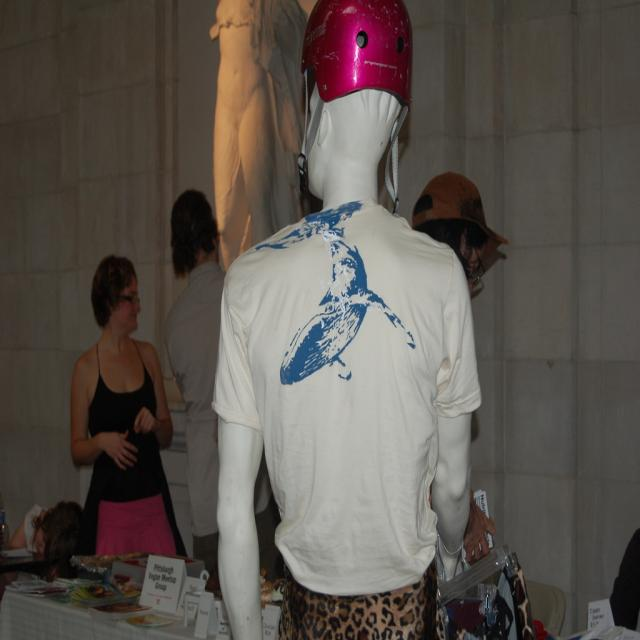Hat: (411, 171, 508, 262)
